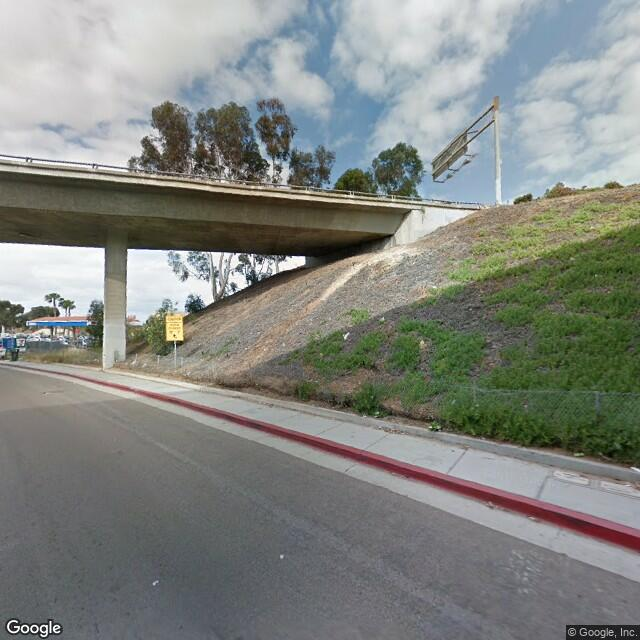litter: (342, 332, 356, 344), (151, 578, 164, 590)
